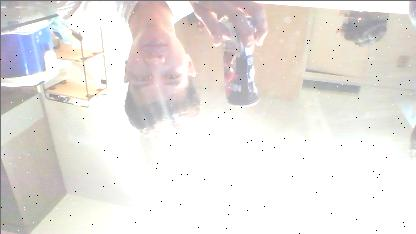Can: (219, 18, 261, 106)
